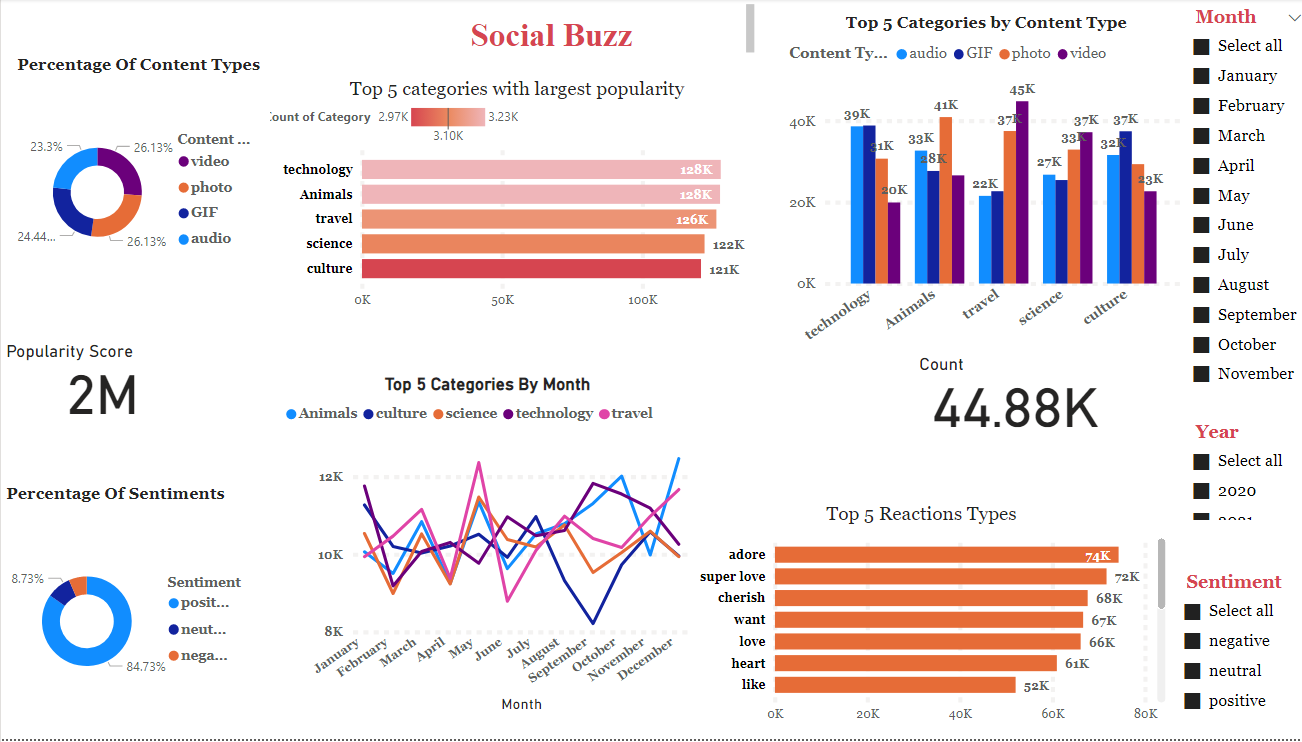

This screenshot's page, from the dashboard's own definition file:
{"tool":"powerbi","page":{"name":"Page 1","canvas":[1280,720],"ordinal":0},"visuals":[{"type":"barChart","title":" Top 5 categories with largest popularity","fields":{"Category":["combined.Category"],"Y":["Sum(combined.Score)"]},"box":[0,62.2,602.1,241.2],"z":0},{"type":"textbox","box":[136.2,0,871.5,62.2],"z":1},{"type":"barChart","title":" Top 5 Reactions Types","fields":{"Y":["Sum(combined.Score)"],"Category":["combined.Type"]},"box":[652.6,490.2,485.3,229.5],"z":2},{"type":"slicer","fields":{"Values":["combined.Datetime.Variation.Date Hierarchy.Month"]},"box":[1146.7,0,133.3,379.3],"z":3},{"type":"slicer","fields":{"Values":["combined.Datetime.Variation.Date Hierarchy.Year"]},"box":[1146.7,403.6,133.3,108],"z":4},{"type":"clusteredColumnChart","title":"Top 5 Categories by Content Type","fields":{"Category":["combined.Category"],"Y":["Sum(combined.Score)"],"Series":["combined.Content Type"]},"box":[678.9,72,467.8,378.4],"z":5},{"type":"slicer","fields":{"Values":["combined.Sentiment"]},"box":[1138,549.5,142,148.8],"z":6},{"type":"lineChart","title":"Top 5 Categories By Month ","fields":{"Category":["combined.Datetime.Variation.Date Hierarchy.Month"],"Series":["combined.Category"],"Y":["Sum(combined.Score)"]},"box":[16.5,303.5,636.1,416.3],"z":7}]}

Visuals, with their boxes in screenshot pixels (x1, y1, x2, y2), scaled from the page's 1280x720 canvas onto the 1302x742 screenshot:
" Top 5 categories with largest popularity" barChart: <box>0,64,612,313</box>
textbox: <box>139,0,1025,64</box>
" Top 5 Reactions Types" barChart: <box>664,505,1157,741</box>
slicer - combined.Datetime.Variation.Date Hierarchy.Month: <box>1166,0,1301,391</box>
slicer - combined.Datetime.Variation.Date Hierarchy.Year: <box>1166,416,1301,527</box>
"Top 5 Categories by Content Type" clusteredColumnChart: <box>691,74,1166,464</box>
slicer - combined.Sentiment: <box>1158,566,1301,720</box>
"Top 5 Categories By Month " lineChart: <box>17,313,664,741</box>
